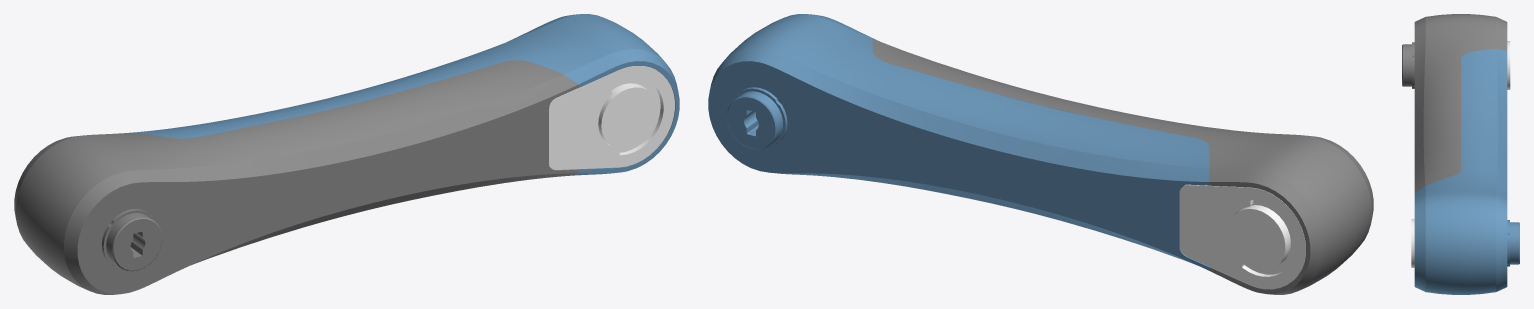
File: upper_arm.dae
3 renders of one model, left to right at view 1: azimuth 30°, elevation 25°; view 2: azimuth 150°, elevation 25°; view 3: azimuth 270°, elevation 25°, orthographic. The views are drawn at different scales.
Visible parts, largest first — view 1: upper_arm; view 2: upper_arm; view 3: upper_arm.
Boxes of the visible parts, x1,y1,x2,y2 form: upper_arm: (14, 14, 679, 294); upper_arm: (708, 14, 1373, 294); upper_arm: (1402, 14, 1519, 294).
Size of the model in its own units: 0.3735 by 0.084 by 0.0737.
